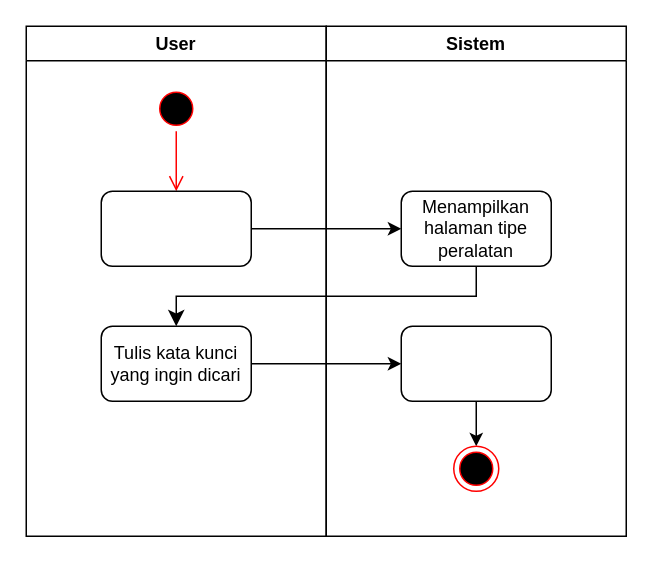
This 653x563 diagram has some shape labels left out. Here are the shapes that lost their labels. From the top down, the centre of each, then its label:
At pixel 175 228: "Membuka halaman tipe peralatan".
At pixel 475 363: "Menampilkan hasil pencarian".
